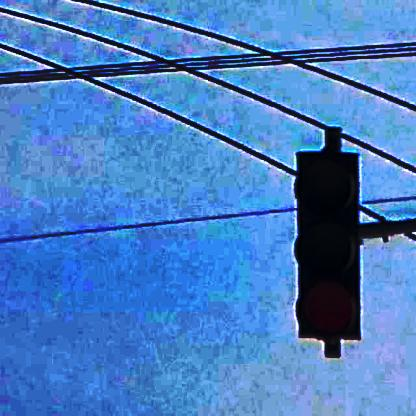Traffic Light -Red-: (294, 151, 362, 337)
